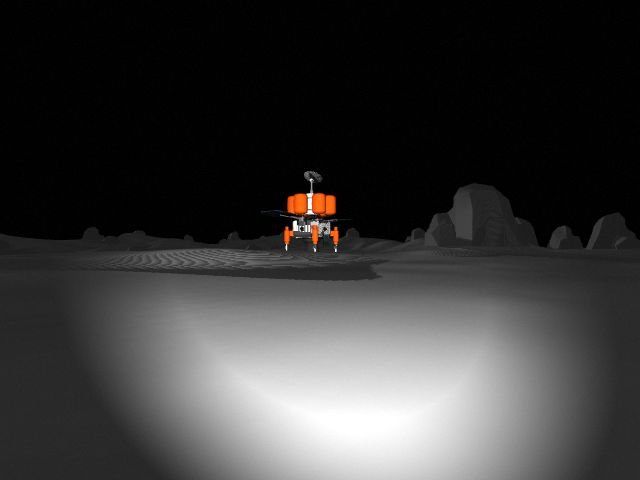homebase: (261, 168, 358, 254)
